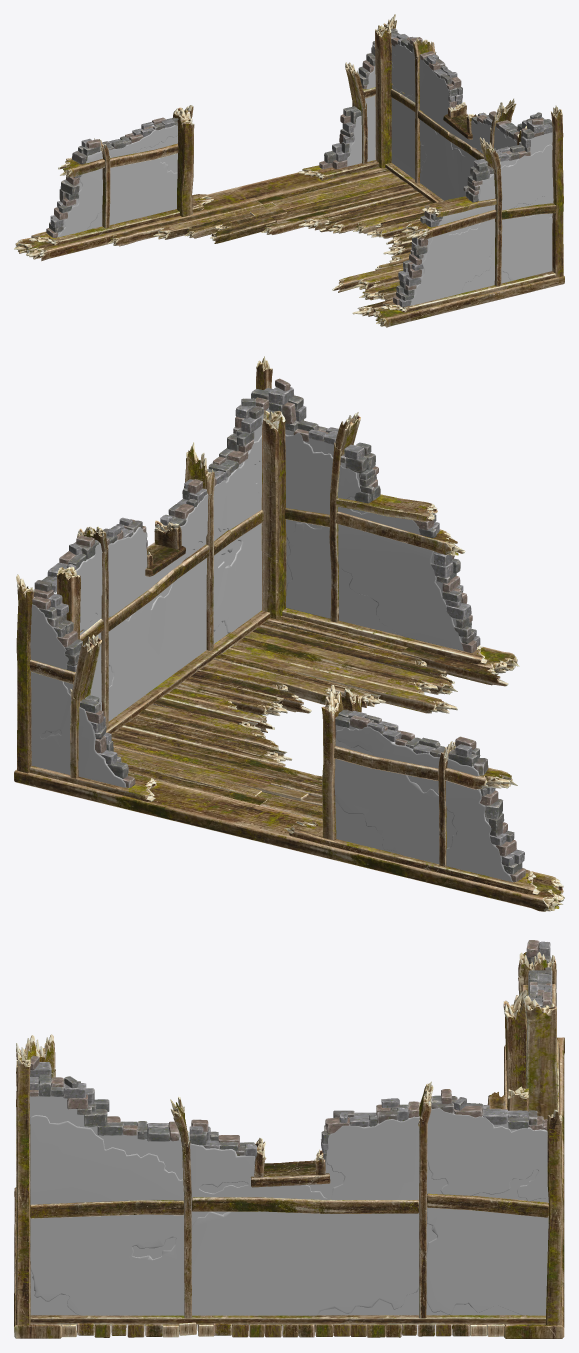
3 views of the same model, one above another, from view 1: azimuth 30°, elevation 25°; view 2: azimuth 150°, elevation 25°; view 3: azimuth 270°, elevation 25° (orthographic). The views are drawn at different scales.
Parts seen in each view (by area): view 1: SM_House_02_Dmg_LOD0; view 2: SM_House_02_Dmg_LOD0; view 3: SM_House_02_Dmg_LOD0.
Part boxes in pixels (<box>): SM_House_02_Dmg_LOD0: <box>14,14,564,327</box>; SM_House_02_Dmg_LOD0: <box>14,356,564,911</box>; SM_House_02_Dmg_LOD0: <box>14,940,564,1338</box>.
Bounding box in the file's own units: 9.99 × 4.47 × 7.83.
